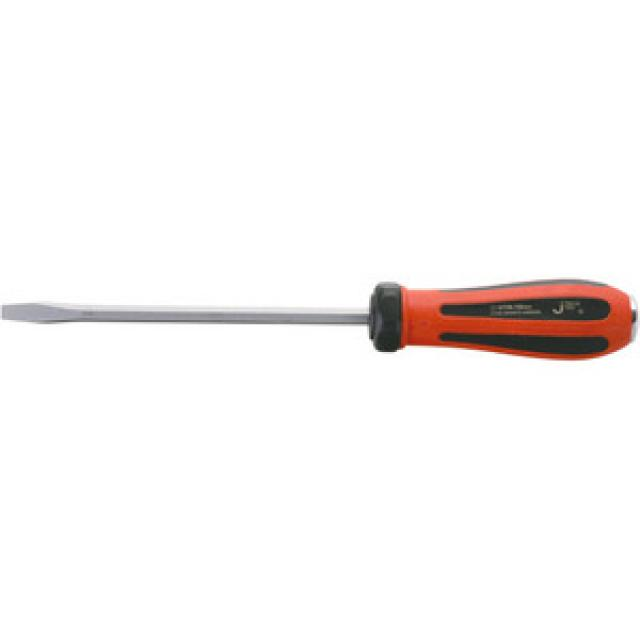Screwdriver: (1, 279, 636, 358)
